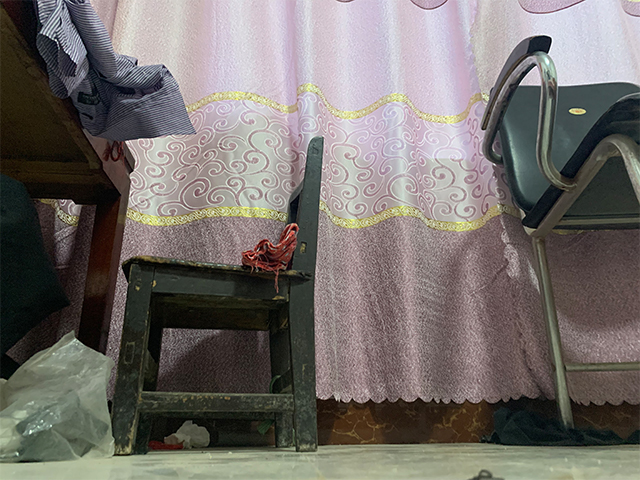curtain: (124, 1, 533, 412)
stool: (111, 135, 326, 456), (479, 35, 640, 432)
